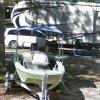Boat: (13, 46, 68, 95)
